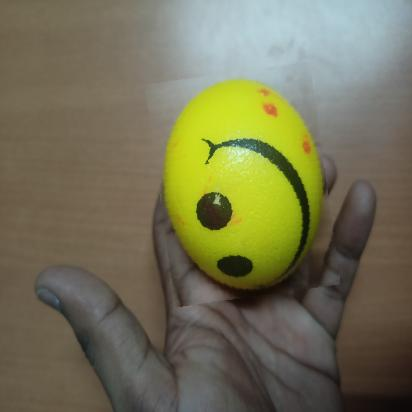Yellowball: (152, 67, 333, 302)
